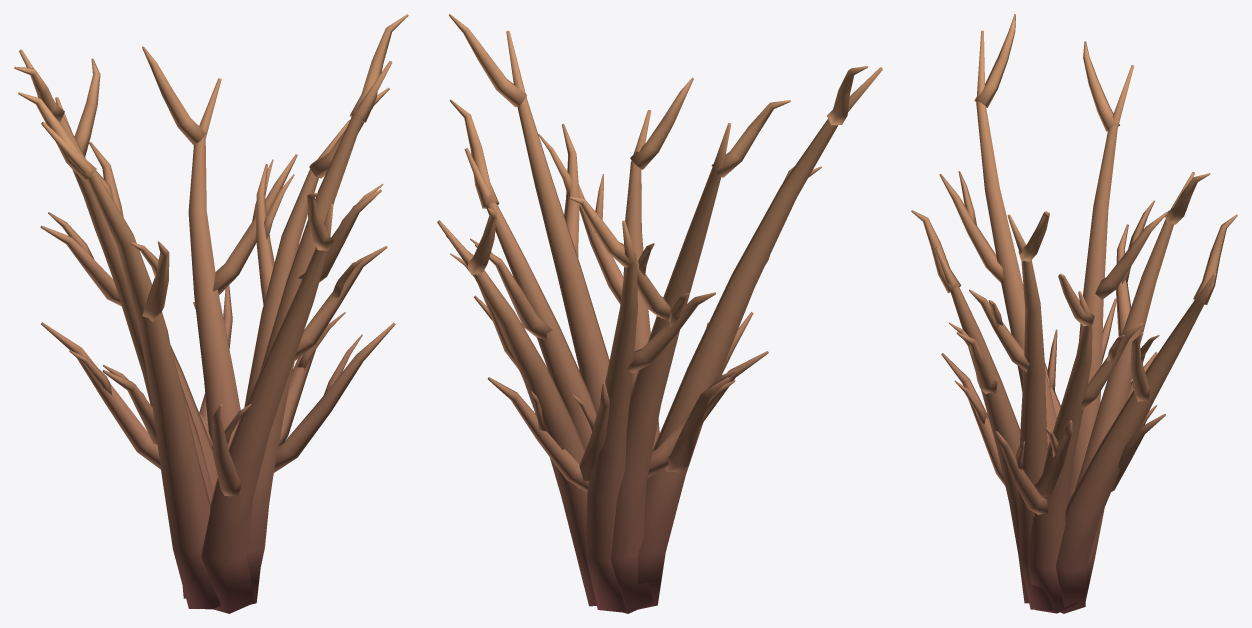
Rendered from coral-staghorn.glb.
The picture shows the model from 3 angles, left to right: view 1: azimuth 30°, elevation 25°; view 2: azimuth 150°, elevation 25°; view 3: azimuth 270°, elevation 25°; orthographic projection. The views are drawn at different scales.
Parts seen in each view (by area): view 1: coral-staghorn.001; view 2: coral-staghorn.001; view 3: coral-staghorn.001.
Part boxes in pixels (<box>): coral-staghorn.001: <box>14,14,408,613</box>; coral-staghorn.001: <box>437,14,882,613</box>; coral-staghorn.001: <box>911,14,1237,613</box>.
Bounding box in the file's own units: 2.28 × 3.09 × 1.85.
